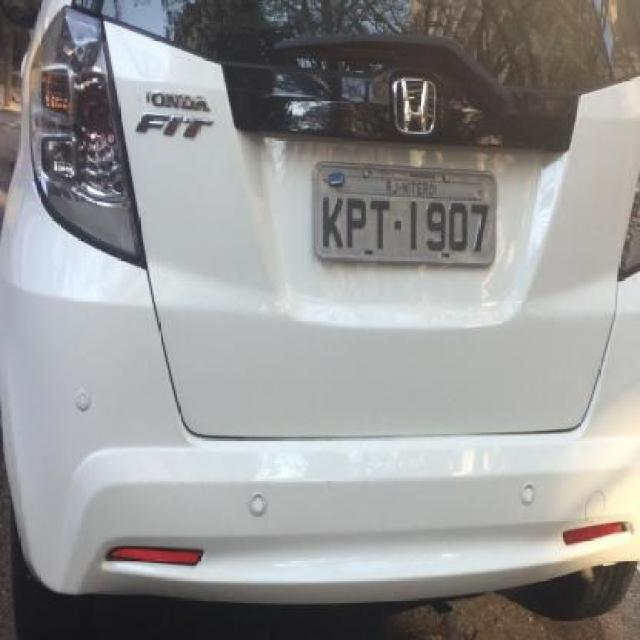old_plate: (304, 158, 509, 274)
